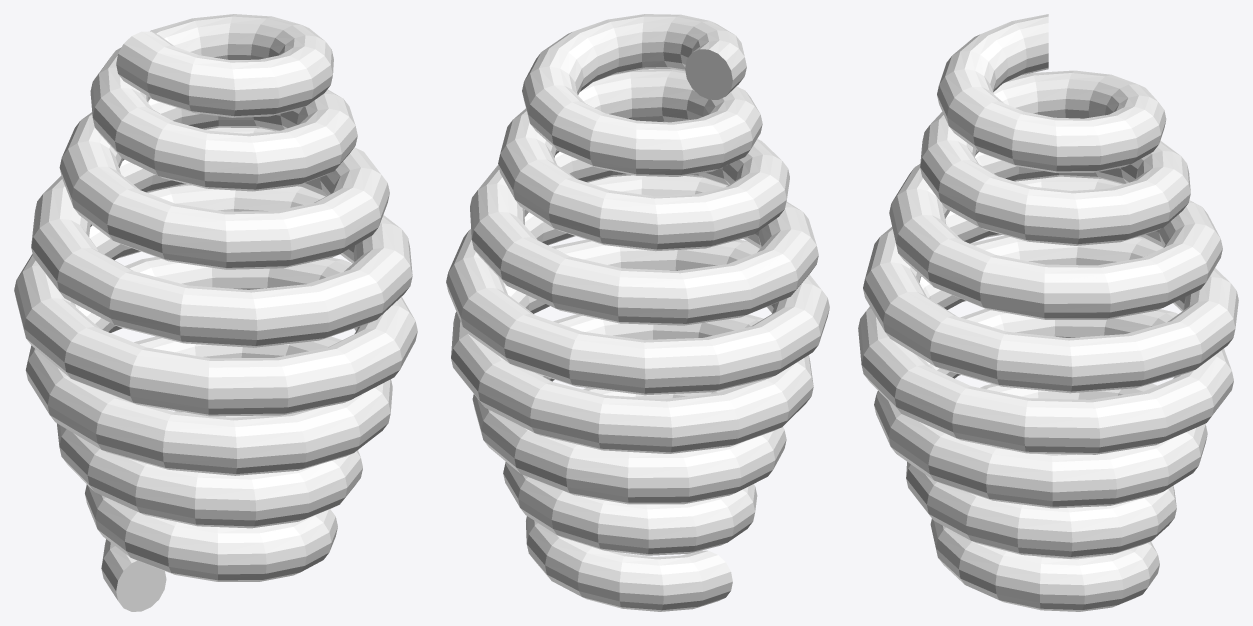
File: Corda.obj
The picture shows the model from 3 angles, left to right: view 1: azimuth 30°, elevation 25°; view 2: azimuth 150°, elevation 25°; view 3: azimuth 270°, elevation 25°; orthographic projection. The views are drawn at different scales.
Parts seen in each view (by area): view 1: ZBrushMesh3D; view 2: ZBrushMesh3D; view 3: ZBrushMesh3D.
Boxes of the visible parts, left/top/right/bottom form: ZBrushMesh3D: left=14, top=14, right=417, bottom=611; ZBrushMesh3D: left=446, top=14, right=829, bottom=611; ZBrushMesh3D: left=858, top=14, right=1238, bottom=611.
Bounding box in the file's own units: 1.24 × 2 × 1.25.
Materials: 1 (1 with a texture image).
